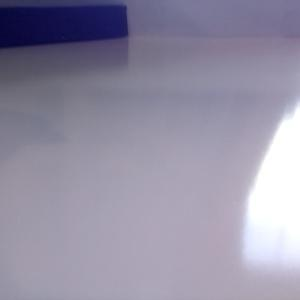zone: (1, 4, 129, 49)
